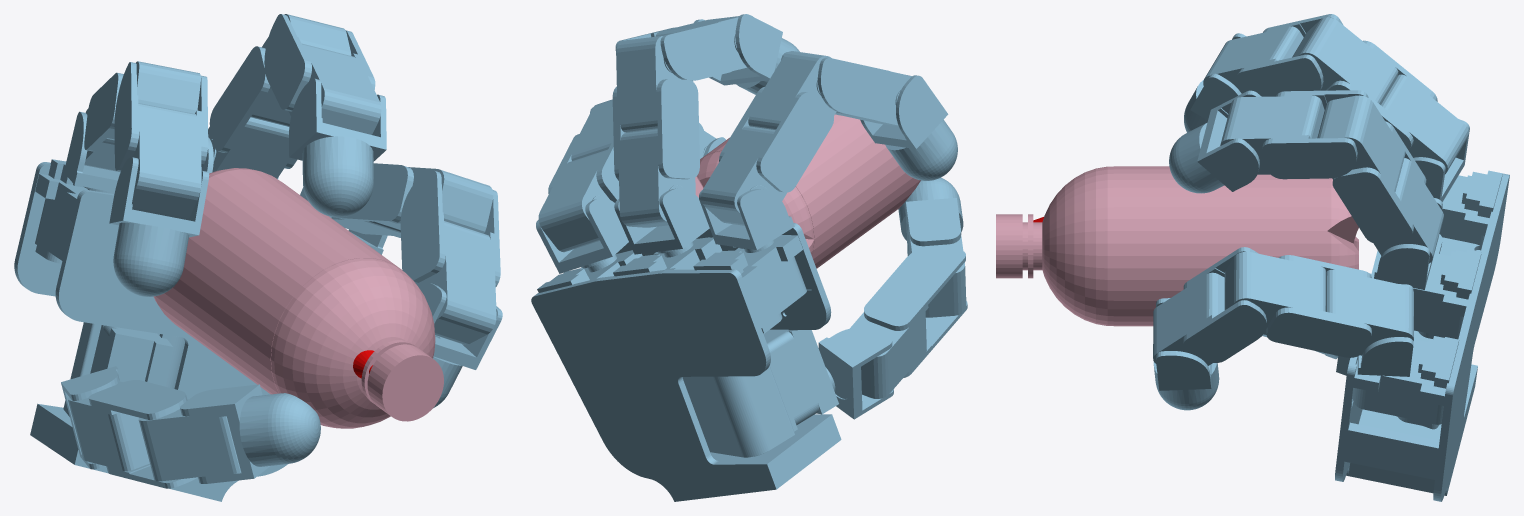
3 renders of one model, left to right at view 1: azimuth 30°, elevation 25°; view 2: azimuth 150°, elevation 25°; view 3: azimuth 270°, elevation 25°, orthographic. The views are drawn at different scales.
Parts seen in each view (by area): view 1: world, water_bottle.stl; view 2: world, water_bottle.stl; view 3: world, water_bottle.stl.
Part boxes in pixels (x1,y1,x2,y2): world: [14, 14, 502, 501]; water_bottle.stl: [153, 168, 443, 428]; world: [531, 14, 967, 501]; water_bottle.stl: [695, 75, 920, 268]; world: [1033, 14, 1509, 501]; water_bottle.stl: [996, 166, 1358, 326].
Size of the model in its own units: 0.1536 by 0.18 by 0.1932.
